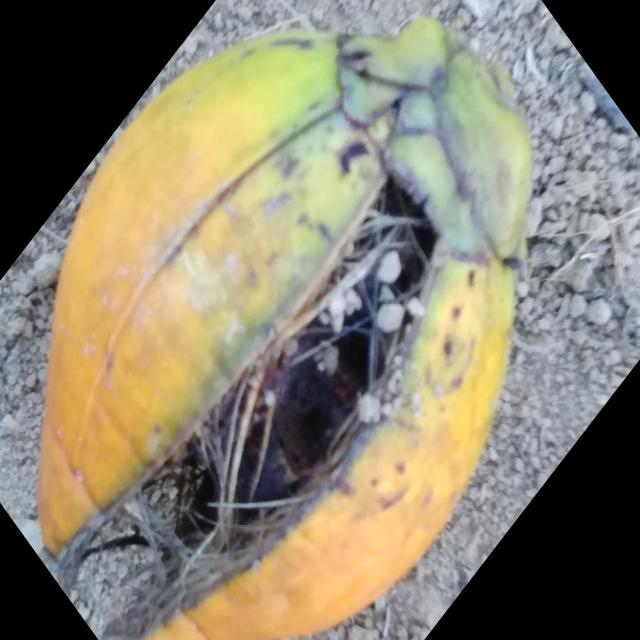damaged: (39, 17, 531, 640)
